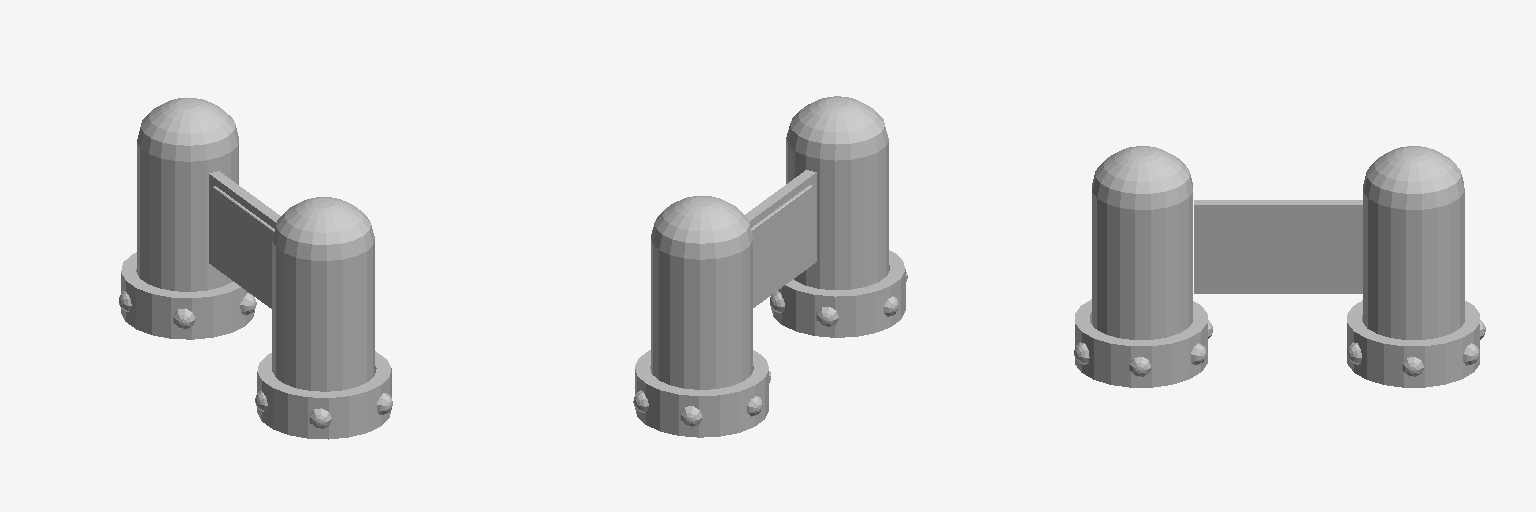
The model's file is water machine2 .obj.
The picture shows the model from 3 angles: view 1: azimuth 30°, elevation 25°; view 2: azimuth 150°, elevation 25°; view 3: azimuth 270°, elevation 25°; orthographic projection.
Parts seen in each view (by area): view 1: polySurface8 polySurface4 polySurface2, polySurface4 polySurface2 polySurface7, polySurface9, polySurface6, pCube1; view 2: polySurface4 polySurface2 polySurface7, polySurface8 polySurface4 polySurface2, polySurface6, polySurface9, pCube1; view 3: polySurface4 polySurface2 polySurface7, polySurface8 polySurface4 polySurface2, pCube1, polySurface9, polySurface6.
Part boxes in pixels (left/top/right/bottom): polySurface8 polySurface4 polySurface2: left=272, top=197, right=374, bottom=391; polySurface4 polySurface2 polySurface7: left=137, top=98, right=238, bottom=291; polySurface9: left=255, top=351, right=392, bottom=439; polySurface6: left=119, top=252, right=256, bottom=339; pCube1: left=209, top=171, right=280, bottom=308; polySurface4 polySurface2 polySurface7: left=651, top=196, right=752, bottom=389; polySurface8 polySurface4 polySurface2: left=786, top=96, right=888, bottom=289; polySurface6: left=633, top=350, right=770, bottom=437; polySurface9: left=770, top=250, right=907, bottom=337; pCube1: left=745, top=170, right=816, bottom=307; polySurface4 polySurface2 polySurface7: left=1363, top=146, right=1464, bottom=339; polySurface8 polySurface4 polySurface2: left=1092, top=146, right=1192, bottom=339; pCube1: left=1194, top=200, right=1362, bottom=293; polySurface9: left=1074, top=299, right=1212, bottom=387; polySurface6: left=1347, top=300, right=1485, bottom=387.
Bounding box in the file's own units: 2.21 × 3.42 × 6.12.